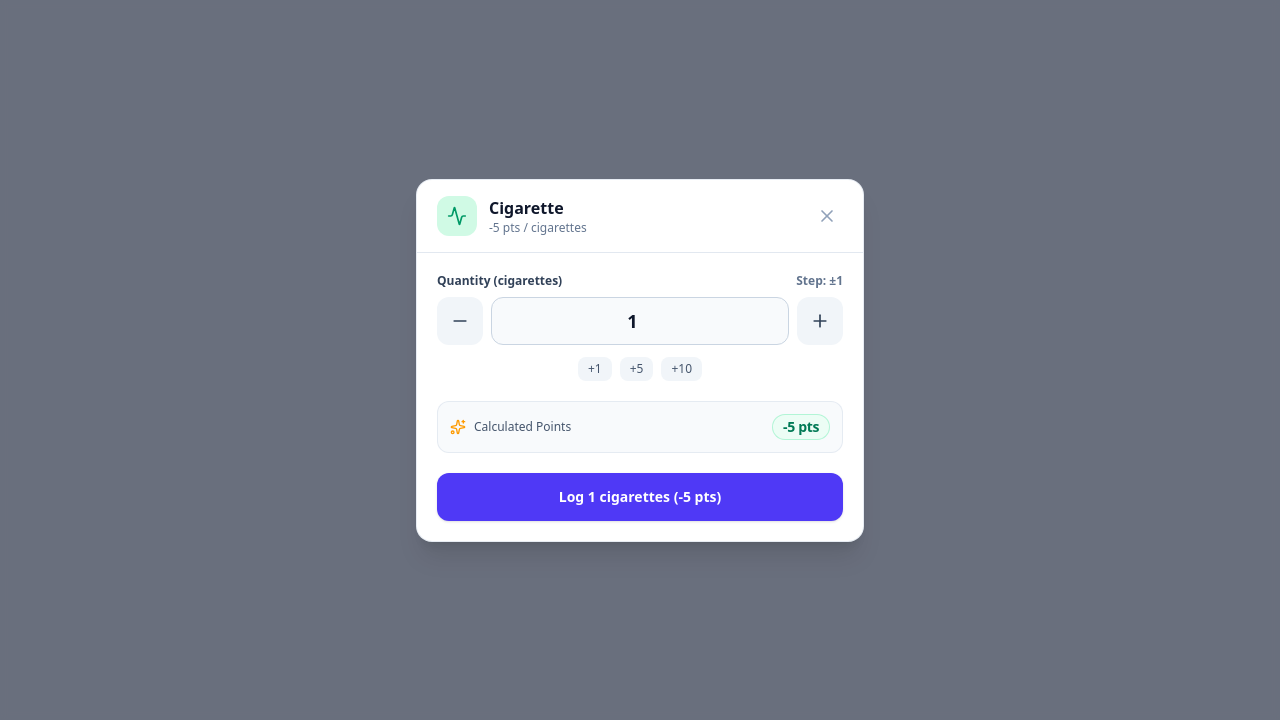
QuantityStepperModal › recalculates points properly for negative base points
Replace the text in the number field with test id "quantity-input" with "3" at (640, 320), box [491,296,789,344]
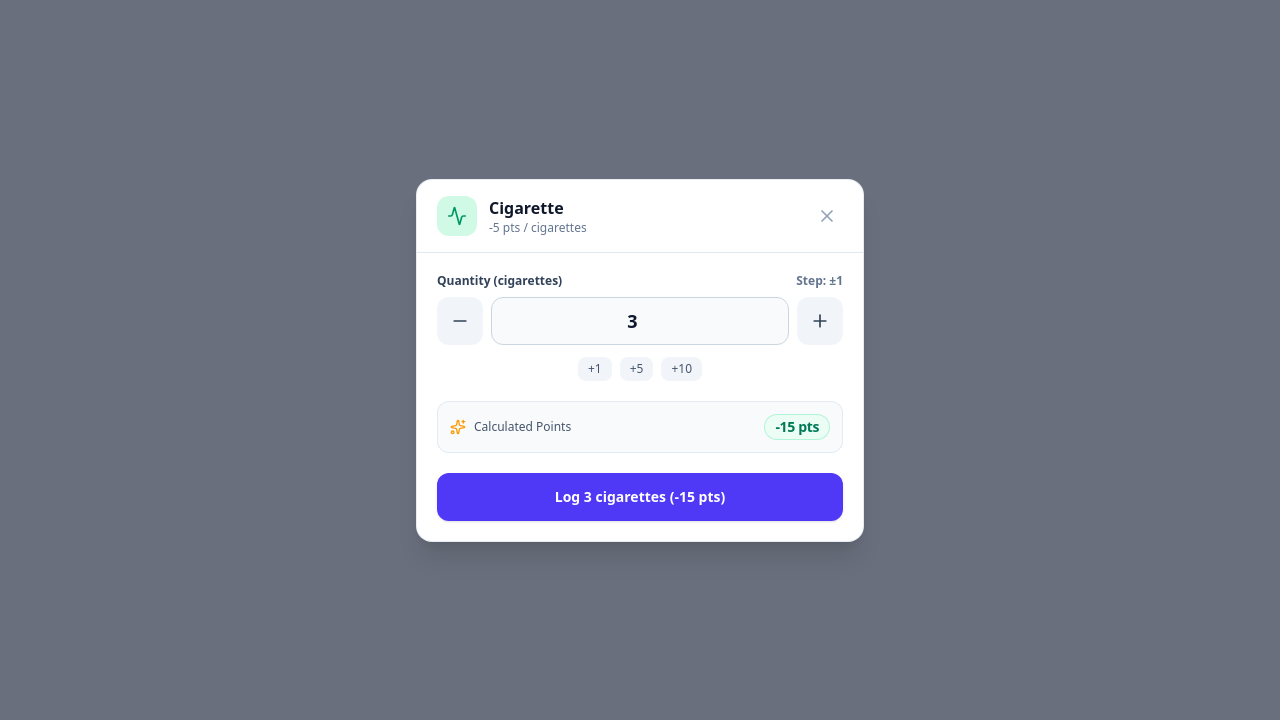
Now the button with test id "quantity-submit-button" reads "Log 3 cigarettes (-15 pts)", box [437,472,843,520]
